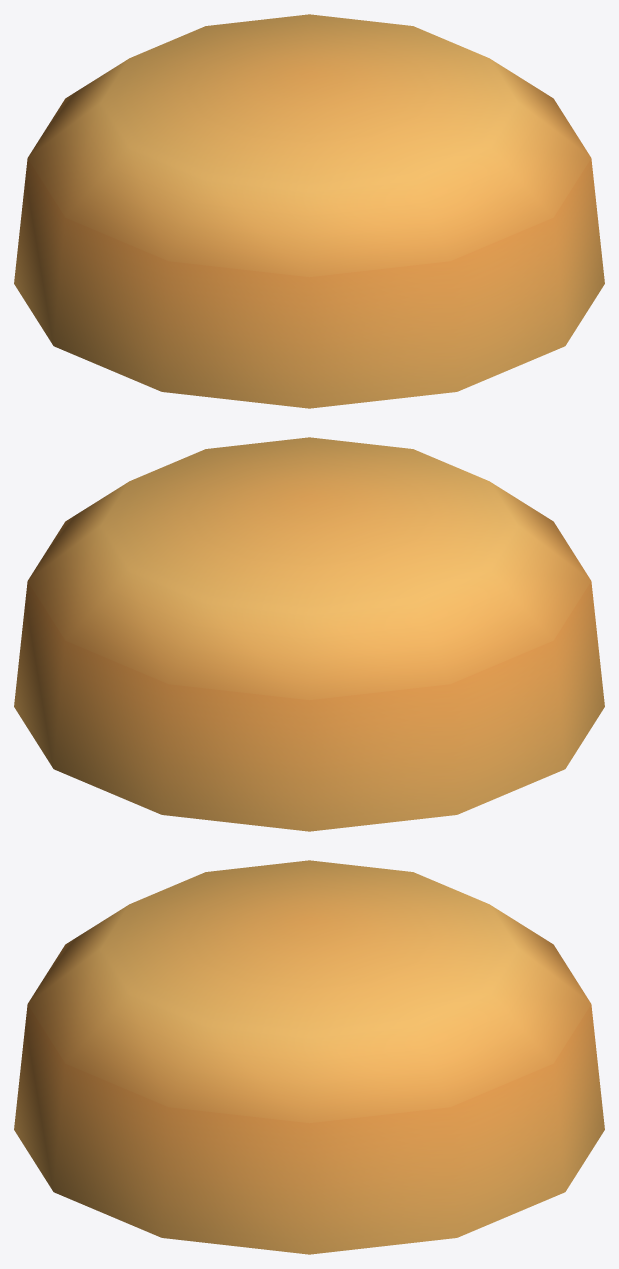
The model's file is candy_A_yellow.obj.
The picture shows the model from 3 angles, top to bottom: view 1: azimuth 30°, elevation 25°; view 2: azimuth 150°, elevation 25°; view 3: azimuth 270°, elevation 25°; orthographic projection.
Visible parts, largest first — view 1: candy_A_yellow; view 2: candy_A_yellow; view 3: candy_A_yellow.
Part boxes in pixels (x1=…): candy_A_yellow: x1=14, y1=14, x2=604, y2=408; candy_A_yellow: x1=14, y1=437, x2=604, y2=831; candy_A_yellow: x1=14, y1=860, x2=604, y2=1254.
Bounding box in the file's own units: 0.6921 × 0.2716 × 0.6921.
1 material, 1 textured.
